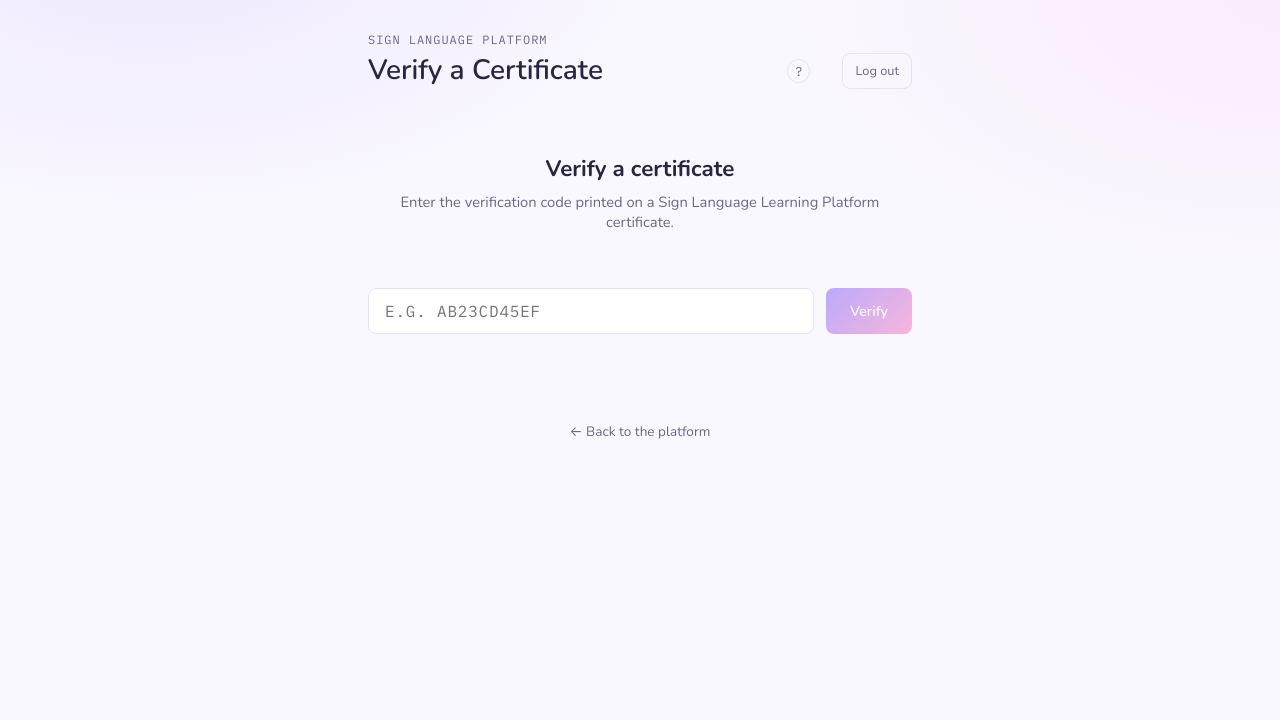
Scenario: a network failure surfaces an error instead of a silent blank result
Step 1. Type "ZZ99ZZ99ZZ" into the field with placeholder "e.g. AB23CD45EF" → (591, 311), box [368,288,814,334]
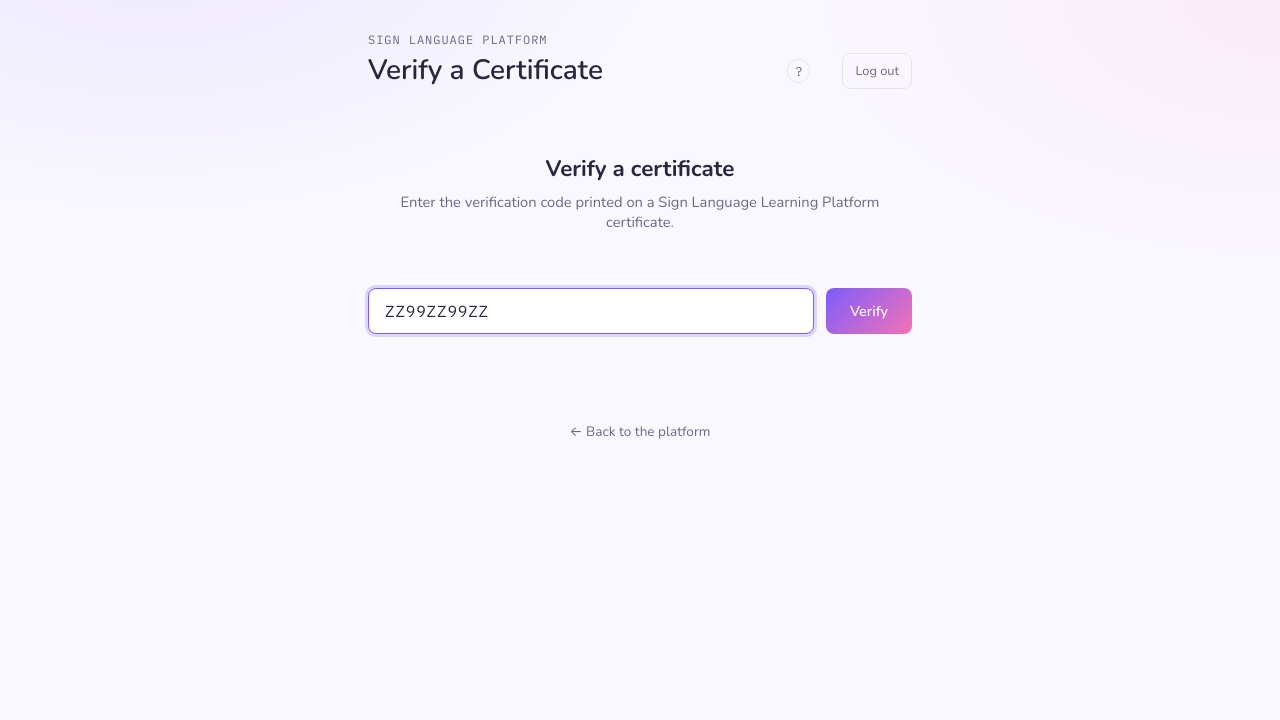
Step 2. Click the button "Verify" → (869, 311), box [826,288,912,334]
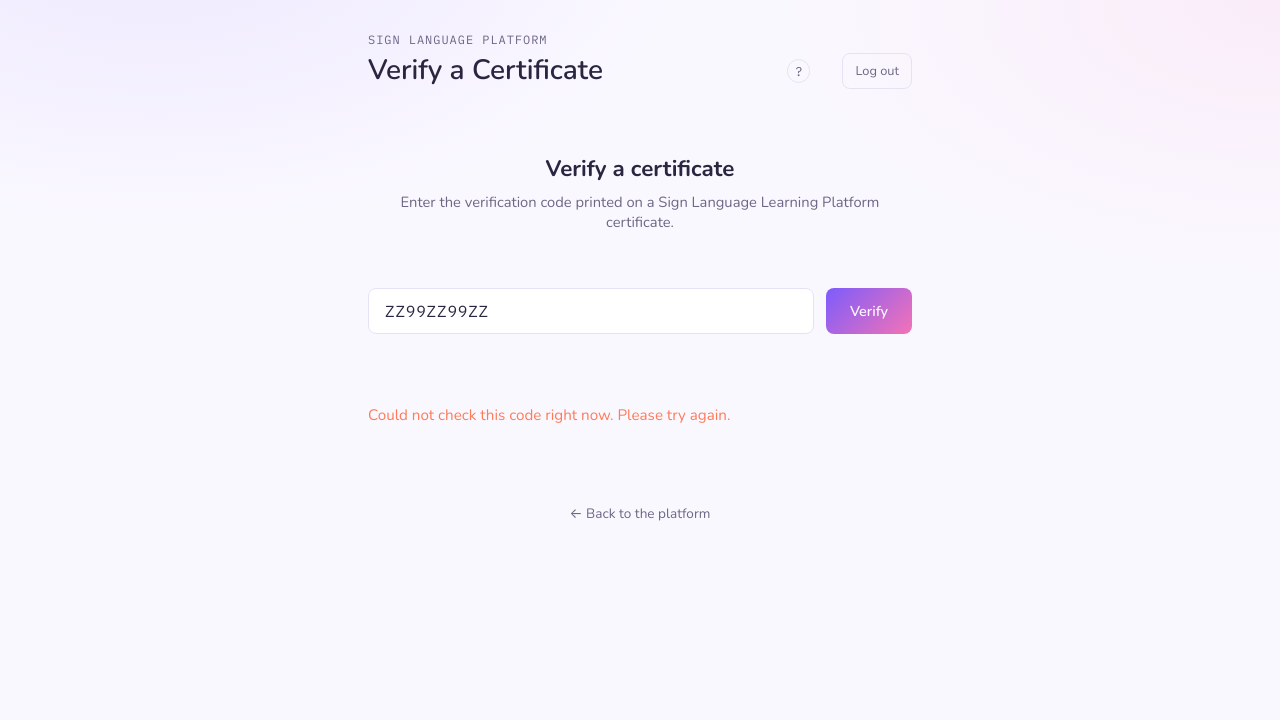
Expected: the text "Could not check this code right now. Please try again." is shown, [368,405,730,425]
